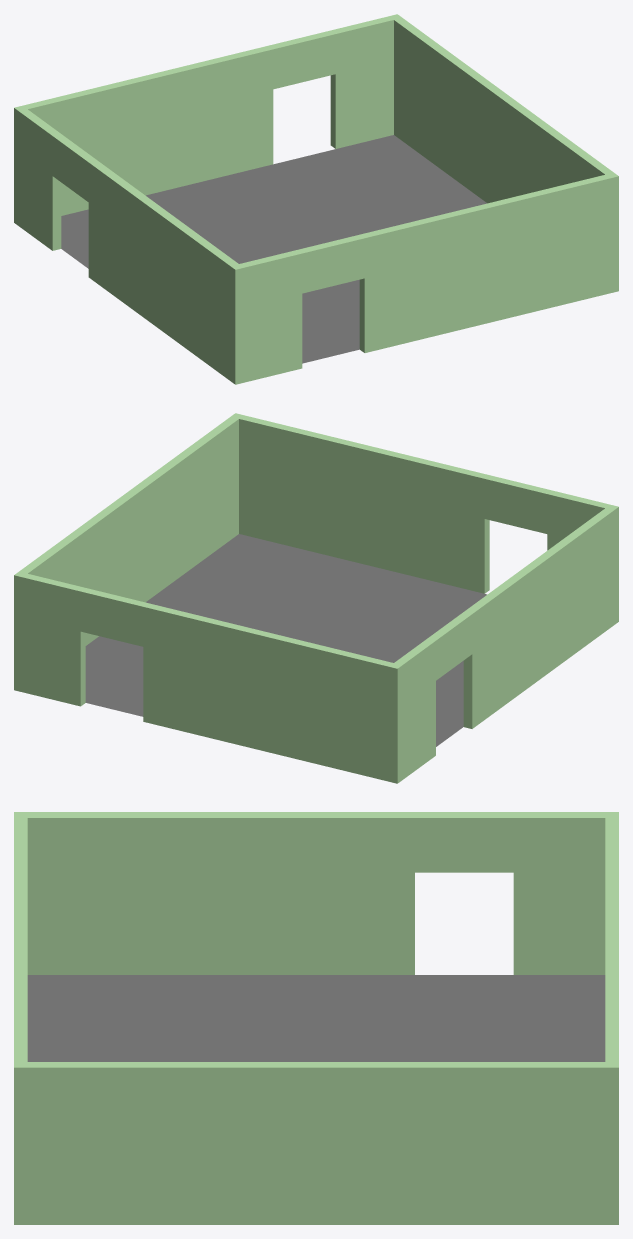
The model's file is SML and H Rooms 2 _Med_Room.fbx.
3 views of the same model, one above another, from view 1: azimuth 30°, elevation 25°; view 2: azimuth 150°, elevation 25°; view 3: azimuth 270°, elevation 25° (orthographic). The views are drawn at different scales.
Parts seen in each view (by area): view 1: Floor(15x15).004; view 2: Floor(15x15).004; view 3: Floor(15x15).004.
Boxes of the visible parts, x1=… form: Floor(15x15).004: x1=14, y1=14, x2=618, y2=384; Floor(15x15).004: x1=14, y1=413, x2=618, y2=783; Floor(15x15).004: x1=14, y1=812, x2=618, y2=1224.
Size of the model in its own units: 3141 by 900 by 3141.
